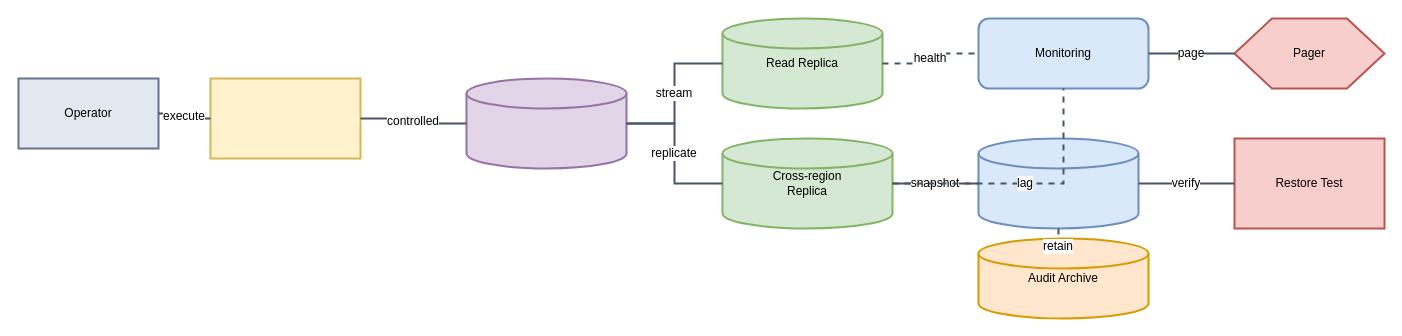
The diagram is 1402 pixels wide and 336 high, and some of its shapes have lost their labels. The centre of each missing label's shape, as x and y in pixels:
"Backup Vault" goes at pixel 1058 183.
"Primary DB" goes at pixel 546 123.
"Recovery Runbook" goes at pixel 285 118.
